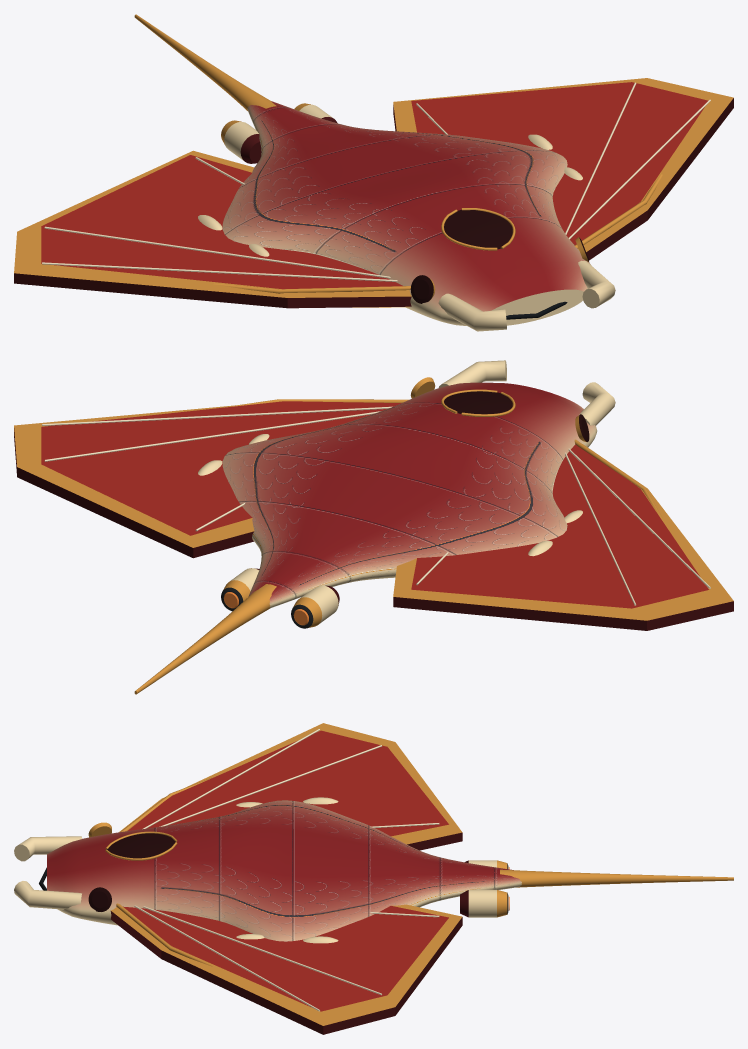
The picture shows the model from 3 angles, top to bottom: view 1: azimuth 30°, elevation 25°; view 2: azimuth 150°, elevation 25°; view 3: azimuth 270°, elevation 25°; orthographic projection. The views are drawn at different scales.
Parts seen in each view (by area): view 1: manta_ray_hull; view 2: manta_ray_hull; view 3: manta_ray_hull.
Part boxes in pixels (x1=…): manta_ray_hull: x1=14, y1=14, x2=733, y2=331; manta_ray_hull: x1=14, y1=360, x2=733, y2=694; manta_ray_hull: x1=14, y1=723, x2=733, y2=1034.
Bounding box in the file's own units: 81.66 × 9.18 × 82.
Materials: 1 (1 with a texture image).
